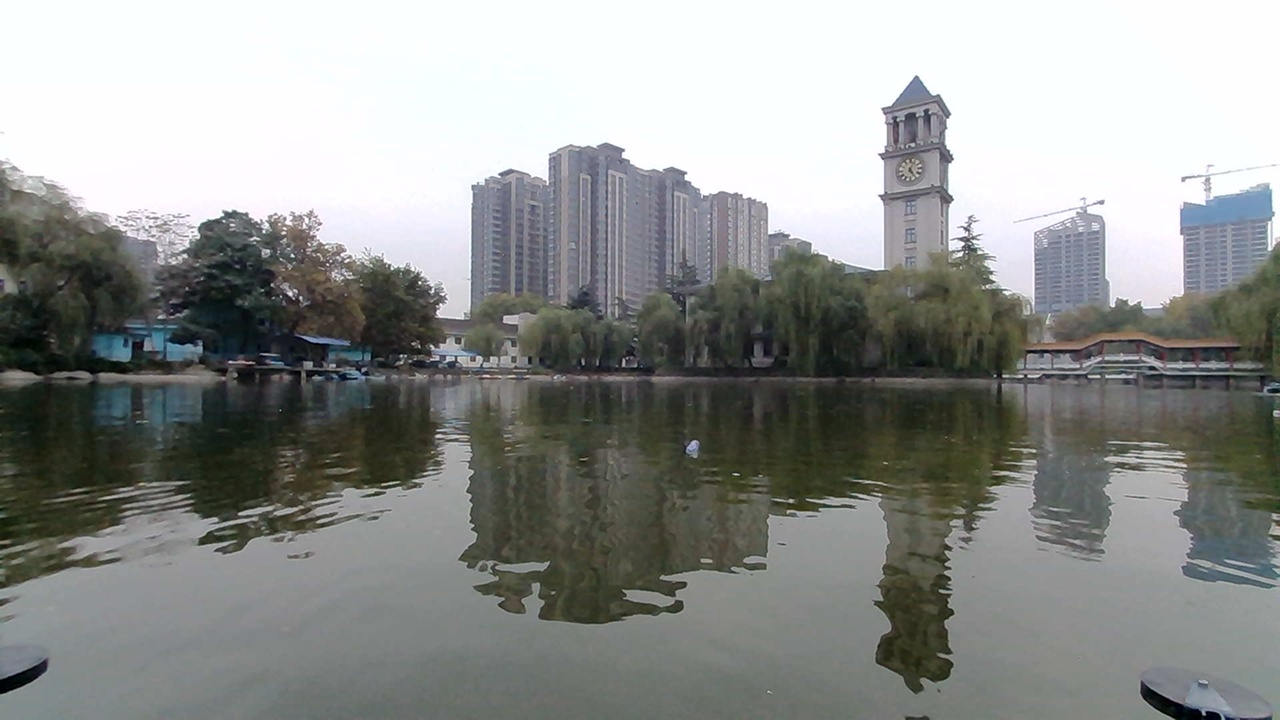bottle: (668, 435, 717, 467)
